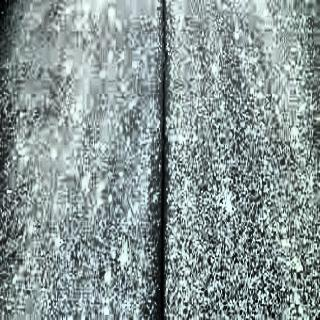crack: (157, 0, 169, 320)
